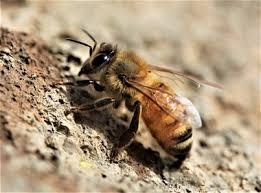Apis-mellifera-scutellata: (60, 20, 225, 168)
